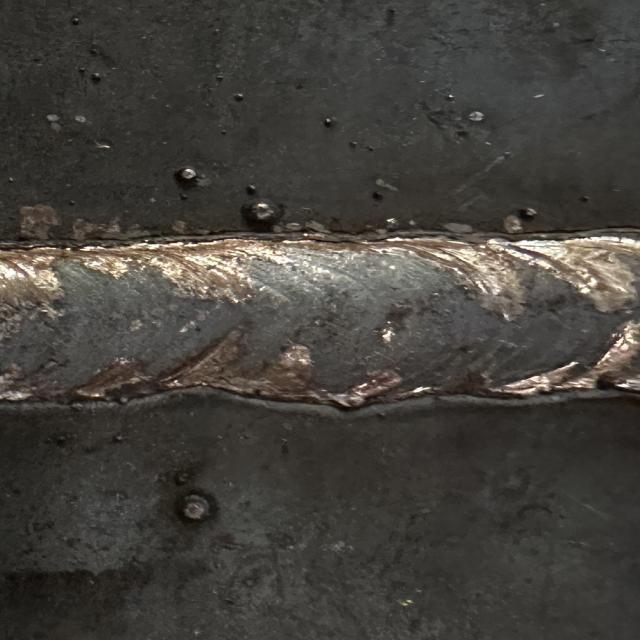Excess Reinforcement: (485, 362, 640, 397), (327, 390, 387, 408)
Spatters: (177, 489, 218, 522), (242, 199, 283, 224), (503, 208, 538, 234), (175, 166, 198, 182), (519, 208, 537, 220), (468, 111, 485, 121), (245, 184, 257, 195), (90, 72, 102, 82), (95, 142, 112, 149), (372, 191, 383, 201), (70, 16, 80, 25), (323, 119, 333, 128), (323, 119, 333, 128), (348, 141, 358, 149), (233, 94, 243, 101), (90, 46, 98, 54), (578, 196, 588, 202)
